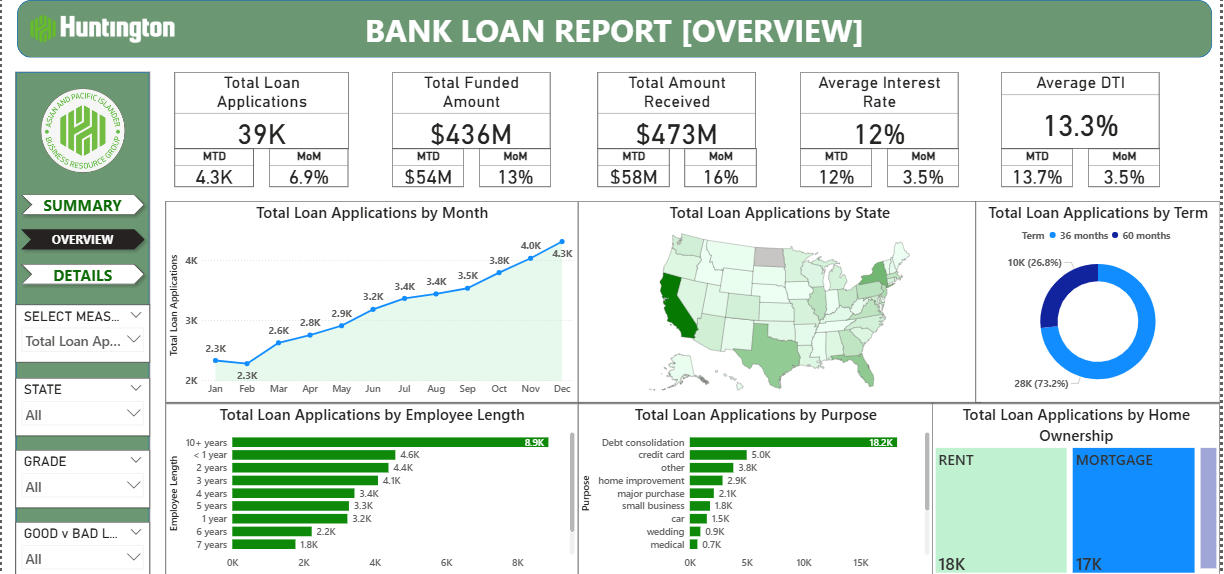

What the dashboard file says about the page in this screenshot:
{"tool":"powerbi","page":{"name":"OVERVIEW","canvas":[2030,960],"ordinal":1},"visuals":[{"type":"shape","box":[24,0,1992,96],"z":0},{"type":"card","title":"Total Loan Applications","fields":{"Values":["bank bank_loan_data.Total Loan Applications"]},"box":[288,120,290.4,128],"z":0,"group":"g1"},{"type":"card","title":"Total Funded Amount","fields":{"Values":["bank bank_loan_data.Total Funded Amount"]},"box":[649,120,264,128],"z":0,"group":"g2"},{"type":"card","title":"Total Amount Received","fields":{"Values":["bank bank_loan_data.Total Amount Received"]},"box":[991.5,120,264,128],"z":0,"group":"g3"},{"type":"card","title":"Average Interest Rate","fields":{"Values":["bank bank_loan_data.Avg Interest Rate"]},"box":[1329,120,264,128],"z":0,"group":"g4"},{"type":"card","title":"Average DTI","fields":{"Values":["bank bank_loan_data.Avg DTI"]},"box":[1665.4,120,264,128],"z":0,"group":"g5"},{"type":"shape","box":[23,120,224.3,848.1],"z":1000},{"type":"card","title":"MTD","fields":{"Values":["bank bank_loan_data.MTD Loan Applications"]},"box":[288,248,132,64],"z":1000,"group":"g1"},{"type":"card","title":"MTD","fields":{"Values":["bank bank_loan_data.MTD Funded Amount"]},"box":[649,248,120,64],"z":1000,"group":"g2"},{"type":"card","title":"MTD","fields":{"Values":["bank bank_loan_data.MTD Total Amount Received"]},"box":[991.5,248,120,64],"z":1000,"group":"g3"},{"type":"card","title":"MTD","fields":{"Values":["bank bank_loan_data.MTD Avg Int Rate"]},"box":[1329,248,120,64],"z":1000,"group":"g4"},{"type":"card","title":"MTD","fields":{"Values":["bank bank_loan_data.MTD Avg DTI"]},"box":[1665.4,248,120,64],"z":1000,"group":"g5"},{"type":"group","id":"g1","title":"Group 1","box":[288,120,264,192],"z":2000},{"type":"card","title":"MoM","fields":{"Values":["bank bank_loan_data.MoM Loan Applications"]},"box":[446.4,248,132,64],"z":2000,"group":"g1"},{"type":"card","title":"MoM","fields":{"Values":["bank bank_loan_data.MoM Total Funded Amount"]},"box":[793,248,120,64],"z":2000,"group":"g2"},{"type":"card","title":"MoM","fields":{"Values":["bank bank_loan_data.MoM Total Amount Received"]},"box":[1135.5,248,120,64],"z":2000,"group":"g3"},{"type":"card","title":"MoM","fields":{"Values":["bank bank_loan_data.MoM Avg Int Rate"]},"box":[1473,248,120,64],"z":2000,"group":"g4"},{"type":"card","title":"MoM","fields":{"Values":["bank bank_loan_data.MoM Avg Int Rate"]},"box":[1809.4,248,120,64],"z":2000,"group":"g5"},{"type":"group","id":"g2","title":"Group 1","box":[649,120,264,192],"z":3000},{"type":"group","id":"g3","title":"Group 1","box":[991.5,120,264,192],"z":4000},{"type":"group","id":"g4","title":"Group 1","box":[1329,120,264,192],"z":5000},{"type":"group","id":"g5","title":"Group 1","box":[1665.4,120,264,192],"z":6000},{"type":"lineChart","fields":{"Y":["bank bank_loan_data.Total Loan Applications"],"Category":["Date Table.Month"]},"box":[272,336,688,336],"z":7000},{"type":"shapeMap","title":"Total Loan Applications by State","fields":{"Value":["bank bank_loan_data.Total Loan Applications"],"Category":["bank bank_loan_data.address_state"]},"box":[960,336,672,336],"z":8000},{"type":"donutChart","fields":{"Y":["bank bank_loan_data.Total Loan Applications"],"Category":["bank bank_loan_data.term"]},"box":[1622,336,408,336],"z":9000},{"type":"barChart","fields":{"Y":["bank bank_loan_data.Total Loan Applications"],"Category":["bank bank_loan_data.emp_length"]},"box":[272,672,688,288],"z":10000},{"type":"barChart","fields":{"Y":["bank bank_loan_data.Total Loan Applications"],"Category":["bank bank_loan_data.purpose"]},"box":[960,672,592,288],"z":11000},{"type":"slicer","fields":{"Values":["bank bank_loan_data.address_state"]},"box":[23,628.8,224.3,96.9],"z":12000},{"type":"treemap","fields":{"Values":["bank bank_loan_data.Total Loan Applications"],"Group":["bank bank_loan_data.home_ownership"]},"box":[1550,672,480,288],"z":13000},{"type":"slicer","fields":{"Values":["Select Measure.Select Measure"]},"box":[23,507.7,224.3,96.9],"z":14000},{"type":"image","box":[48,0,240,96],"z":15000},{"type":"slicer","title":"GRADE","fields":{"Values":["bank bank_loan_data.grade"]},"box":[23,750,224.3,96.9],"z":16000},{"type":"image","box":[23,144.2,224.3,145.4],"z":17000},{"type":"pageNavigator","box":[23,313.8,224.3,169.6],"z":18000},{"type":"slicer","title":"GRADE","fields":{"Values":["bank bank_loan_data.Good v Bad Loan"]},"box":[23,871.2,224.3,96.9],"z":19000}]}

Visuals, with their boxes in screenshot pixels (x1, y1, x2, y2), scaled from the page's 2030x960 canvas onto the 1224x574 screenshot:
shape: (14,0,1216,57)
"Total Loan Applications" card: (174,72,349,148)
"Total Funded Amount" card: (391,72,550,148)
"Total Amount Received" card: (598,72,757,148)
"Average Interest Rate" card: (801,72,961,148)
"Average DTI" card: (1004,72,1163,148)
shape: (14,72,149,573)
"MTD" card: (174,148,253,187)
"MTD" card: (391,148,464,187)
"MTD" card: (598,148,670,187)
"MTD" card: (801,148,874,187)
"MTD" card: (1004,148,1077,187)
"Group 1" group: (174,72,333,187)
"MoM" card: (269,148,349,187)
"MoM" card: (478,148,550,187)
"MoM" card: (685,148,757,187)
"MoM" card: (888,148,961,187)
"MoM" card: (1091,148,1163,187)
"Group 1" group: (391,72,550,187)
"Group 1" group: (598,72,757,187)
"Group 1" group: (801,72,961,187)
"Group 1" group: (1004,72,1163,187)
lineChart - bank bank_loan_data.Total Loan Applications x Date Table.Month: (164,201,579,402)
"Total Loan Applications by State" shapeMap: (579,201,984,402)
donutChart - bank bank_loan_data.Total Loan Applications x bank bank_loan_data.term: (978,201,1223,402)
barChart - bank bank_loan_data.Total Loan Applications x bank bank_loan_data.emp_length: (164,402,579,573)
barChart - bank bank_loan_data.Total Loan Applications x bank bank_loan_data.purpose: (579,402,936,573)
slicer - bank bank_loan_data.address_state: (14,376,149,434)
treemap - bank bank_loan_data.Total Loan Applications x bank bank_loan_data.home_ownership: (935,402,1223,573)
slicer - Select Measure.Select Measure: (14,304,149,362)
image: (29,0,174,57)
"GRADE" slicer: (14,448,149,506)
image: (14,86,149,173)
pageNavigator: (14,188,149,289)
"GRADE" slicer: (14,521,149,573)
